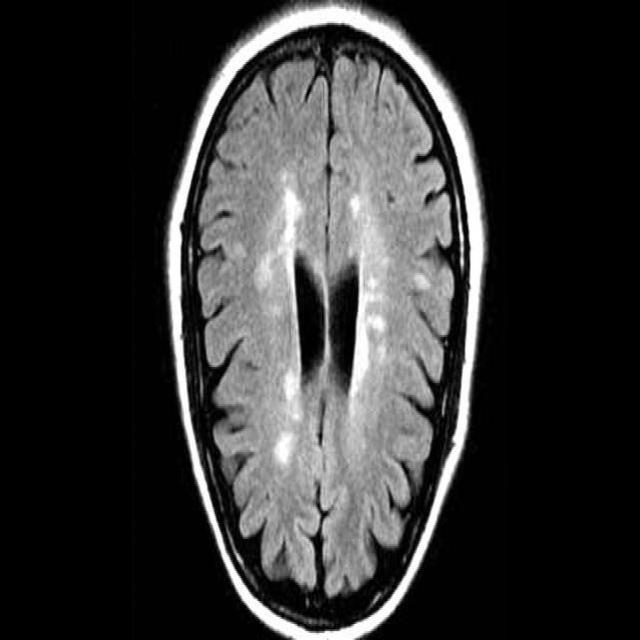notumor: (166, 5, 484, 638)
